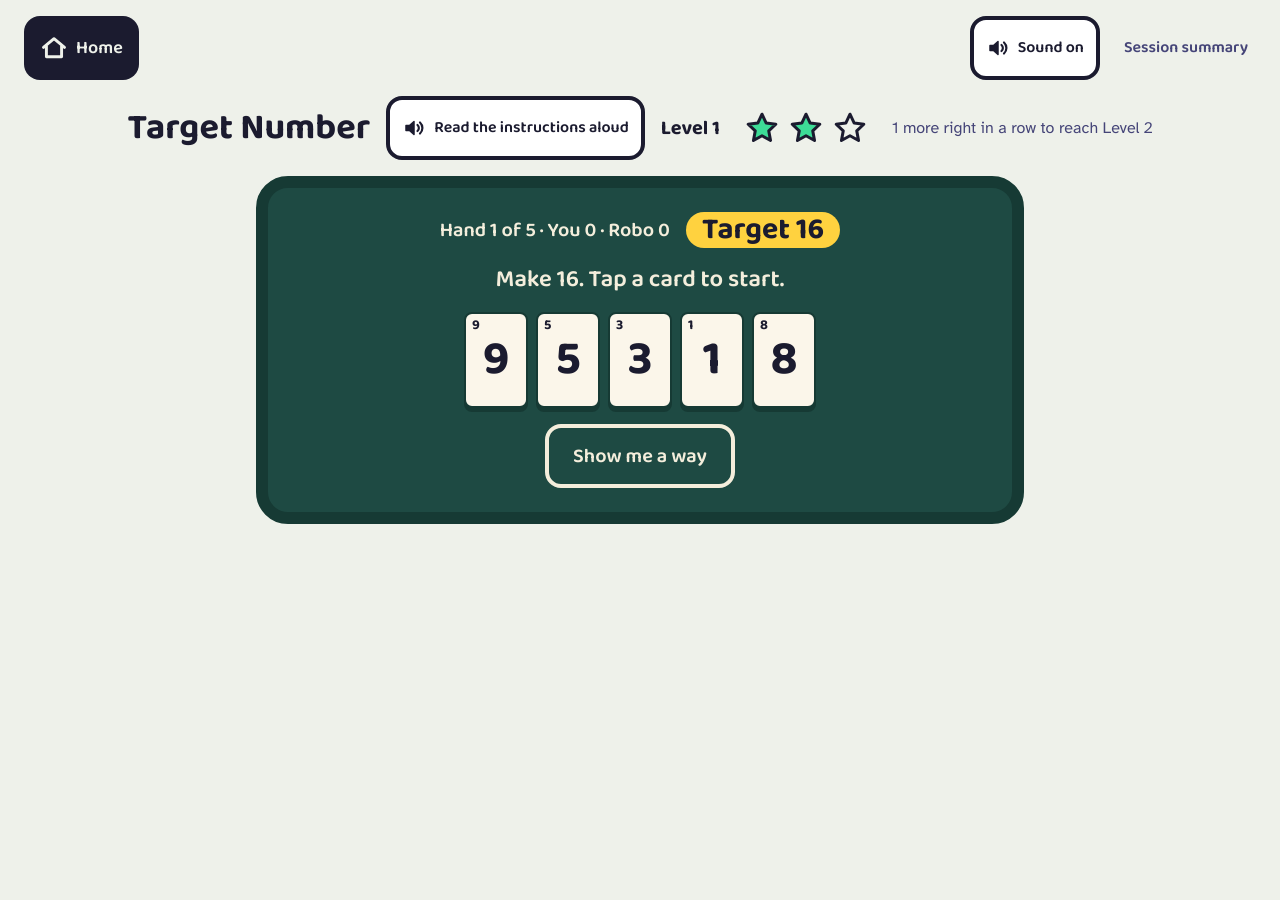
Test: a hand shows the target and five cards, and tapping a card starts the way
Expected: the text "Make 16. Tap a card to start." is shown, [496,264,784,296]
Expected: the text "Hand 1 of 5 · You 0 · Robo 0" is shown, [440,216,670,244]
What coordinates should you click on to do the following:
click the button named "Card 9"
I would click on:
 (496, 360)
Its box is [464,312,528,408].
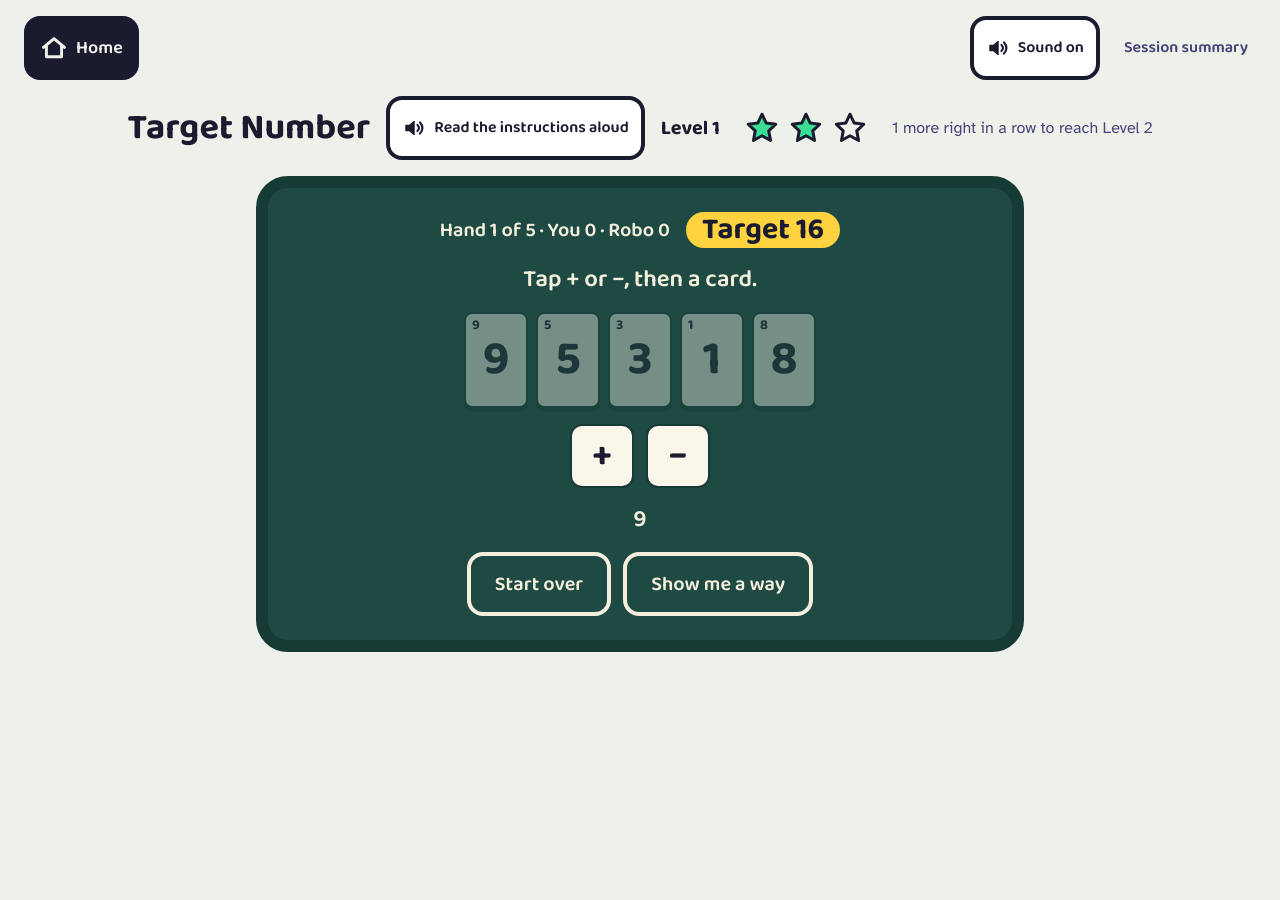
Now the text "Tap + or −, then a card." is shown, box [523,264,757,296]
Now the button named "Card 9" is disabled, box [464,312,528,408]
